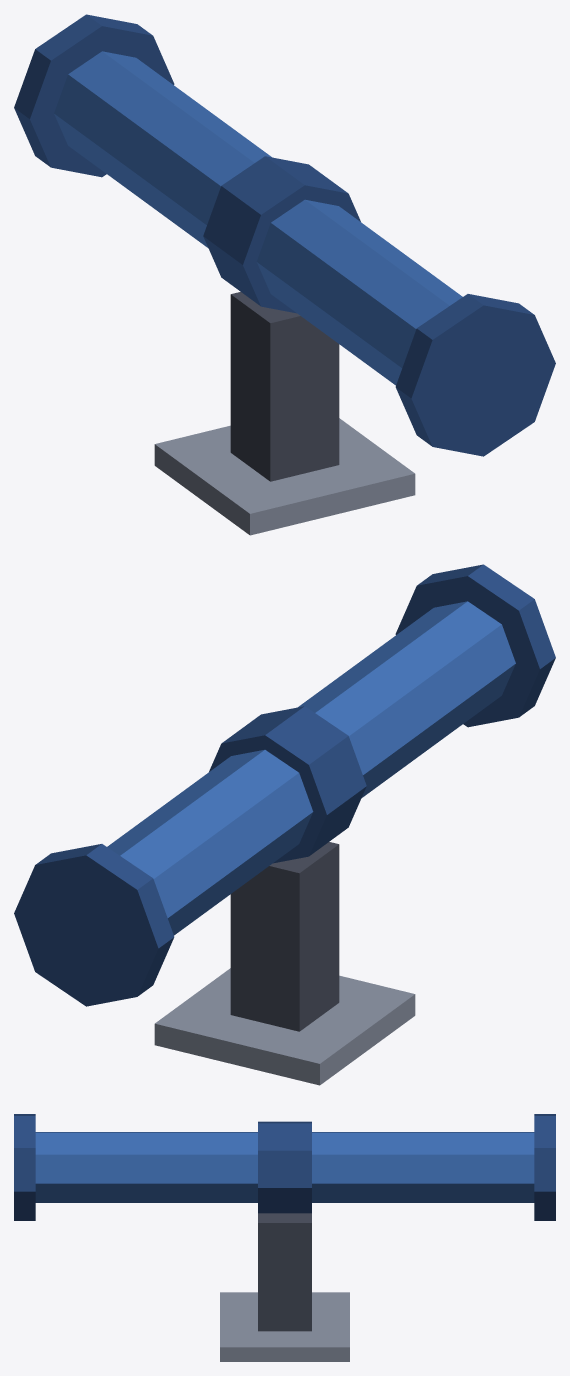
Rendered from water-pipe-straight.glb.
3 renders of one model, top to bottom at view 1: azimuth 30°, elevation 25°; view 2: azimuth 150°, elevation 25°; view 3: azimuth 270°, elevation 25°, orthographic. The views are drawn at different scales.
Parts seen in each view (by area): view 1: water-pipe-straight; view 2: water-pipe-straight; view 3: water-pipe-straight.
Boxes of the visible parts, bbox=[...] form: water-pipe-straight: bbox=[14, 14, 555, 535]; water-pipe-straight: bbox=[14, 564, 555, 1085]; water-pipe-straight: bbox=[14, 1114, 555, 1361].
Size of the model in its own units: 0.24 by 0.445 by 1.
1 material, 1 textured.
